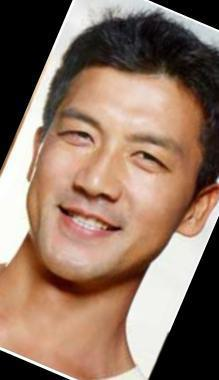Sober: (39, 83, 186, 266)
